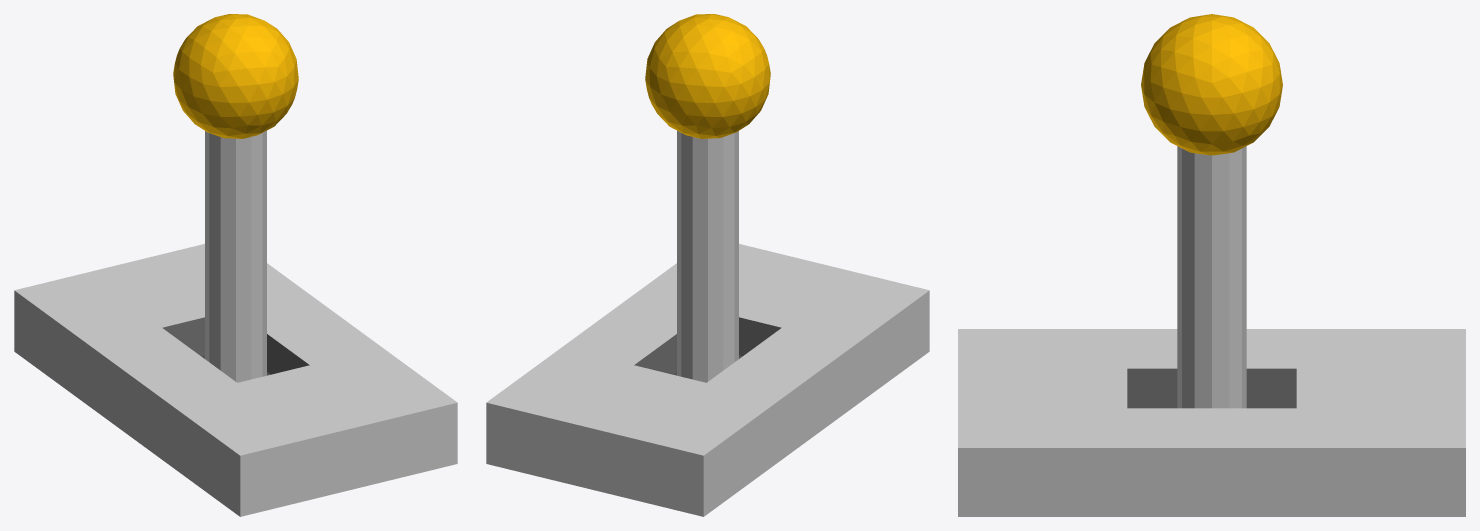
File: dzwignia.fbx
The picture shows the model from 3 angles, left to right: view 1: azimuth 30°, elevation 25°; view 2: azimuth 150°, elevation 25°; view 3: azimuth 270°, elevation 25°; orthographic projection. The views are drawn at different scales.
Parts seen in each view (by area): view 1: Cube, Kula ico; view 2: Cube, Kula ico; view 3: Cube, Kula ico.
Part boxes in pixels (left/top/right/bottom): Cube: left=14, top=244, right=457, bottom=516; Kula ico: left=173, top=14, right=298, bottom=382; Cube: left=486, top=244, right=929, bottom=516; Kula ico: left=645, top=14, right=770, bottom=382; Cube: left=958, top=329, right=1465, bottom=516; Kula ico: left=1141, top=14, right=1282, bottom=408.
Bounding box in the file's own units: 397 × 678 × 715.
